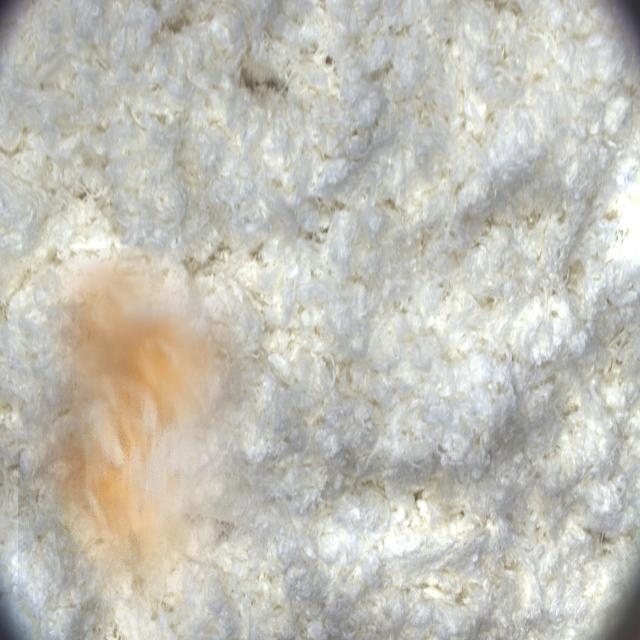dust: (18, 248, 263, 640)
